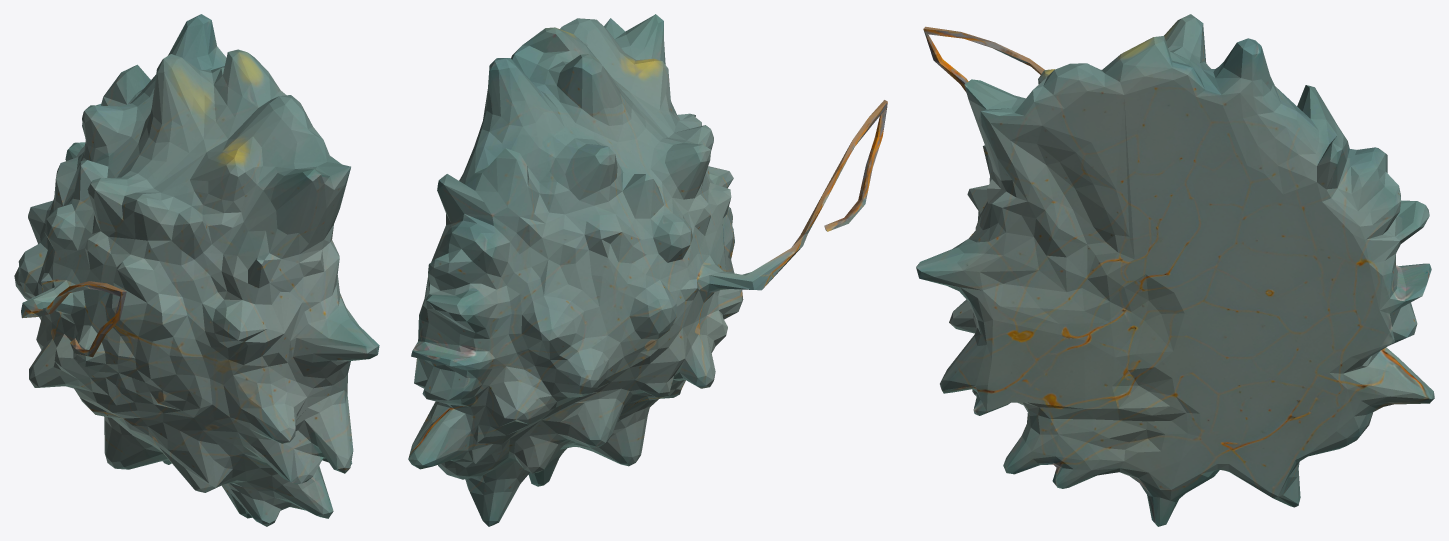
Rendered from pollen_fossils_001.glb.
3 renders of one model, left to right at view 1: azimuth 30°, elevation 25°; view 2: azimuth 150°, elevation 25°; view 3: azimuth 270°, elevation 25°, orthographic. The views are drawn at different scales.
Visible parts, largest first — view 1: tripo_node_3d578329-0753-4d2c-8e8d-d2745bcbba17; view 2: tripo_node_3d578329-0753-4d2c-8e8d-d2745bcbba17; view 3: tripo_node_3d578329-0753-4d2c-8e8d-d2745bcbba17.
Boxes of the visible parts, x1,y1,x2,y2 form: tripo_node_3d578329-0753-4d2c-8e8d-d2745bcbba17: (14, 14, 379, 526); tripo_node_3d578329-0753-4d2c-8e8d-d2745bcbba17: (408, 14, 887, 526); tripo_node_3d578329-0753-4d2c-8e8d-d2745bcbba17: (916, 14, 1434, 526).
Bounding box in the file's own units: 0.5617 × 0.9435 × 0.9198.
Materials: 1 (1 with a texture image).
